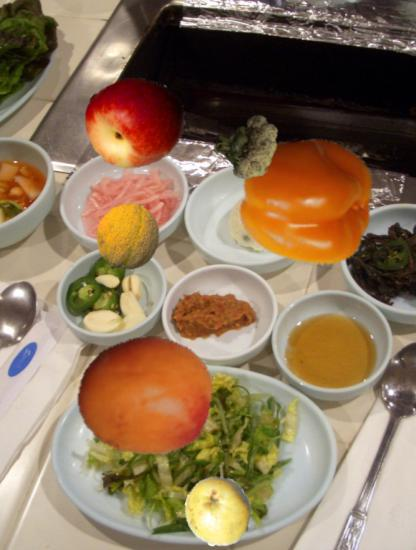Apricot: (76, 325, 216, 465)
Cantaloupe: (93, 202, 163, 272)
Cauliflower: (211, 112, 280, 181)
Nectarine: (85, 74, 183, 172)
Pear: (184, 477, 254, 547)
Pepper: (237, 132, 379, 274)
